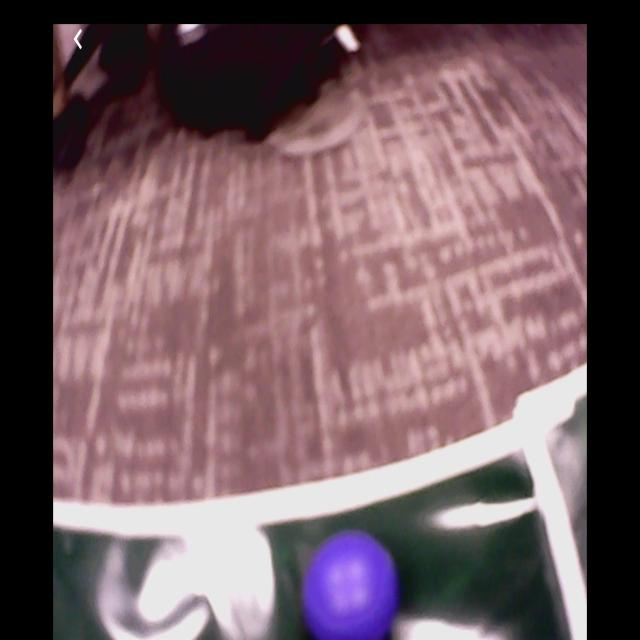ball: (303, 530, 395, 640)
